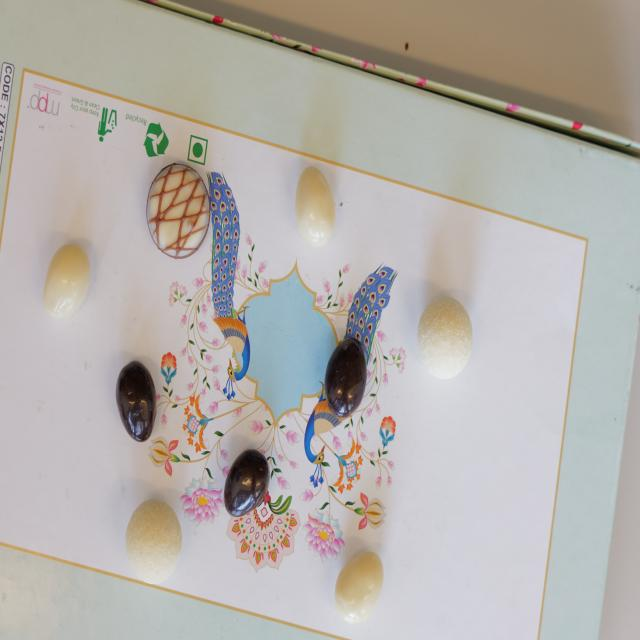Comtesse: (127, 496, 182, 583), (417, 297, 472, 380)
Creme_brulee: (148, 162, 210, 260)
Jelly_Black: (323, 338, 368, 418), (222, 449, 270, 519), (116, 361, 156, 444)
Jelly_White: (42, 242, 90, 322), (334, 551, 384, 624), (295, 167, 335, 246)
